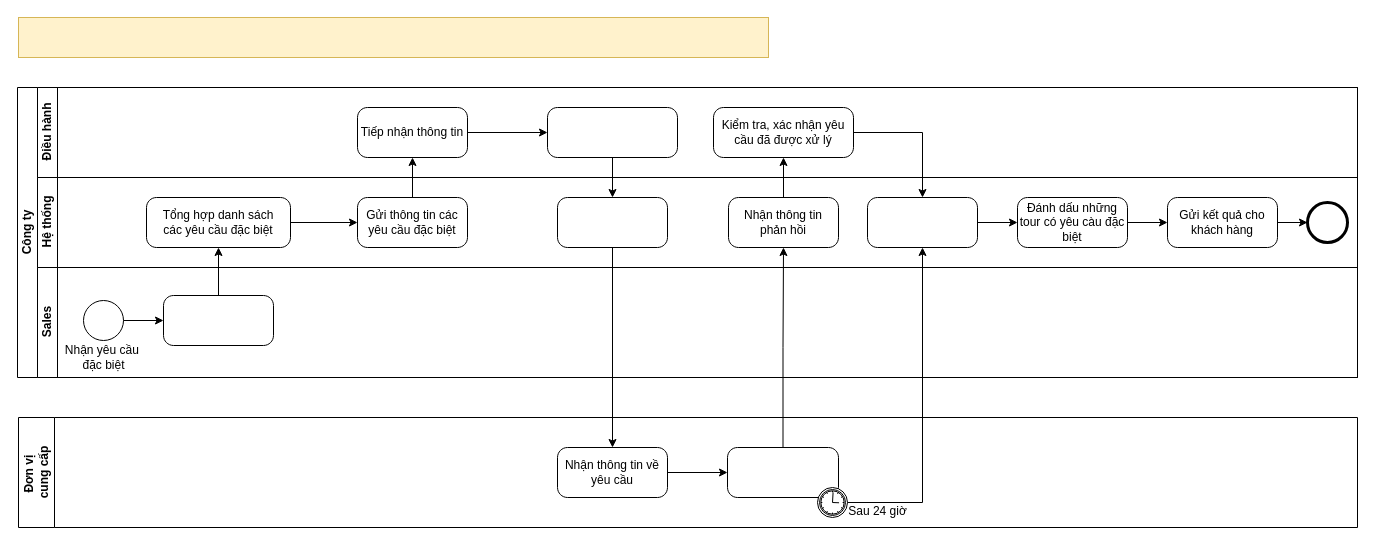
The diagram is 1375 pixels wide and 545 high, and some of its shapes have lost their labels. Each missing label, with the centre of its shape:
Chuyển tiếp các yêu cầu: (x=612, y=222)
Cập nhật trạng thái yêu cầu: (x=922, y=222)
Ghi nhận yêu cầu vào hệ thống: (x=218, y=320)
Phản hồi yêu cầu: (x=782, y=472)
Quy trình xử lý yêu cầu đặc biệt của khách hàng: (x=393, y=37)
Xác định yêu cầu có liên quan đến đơn vị cung cấp: (x=612, y=132)
